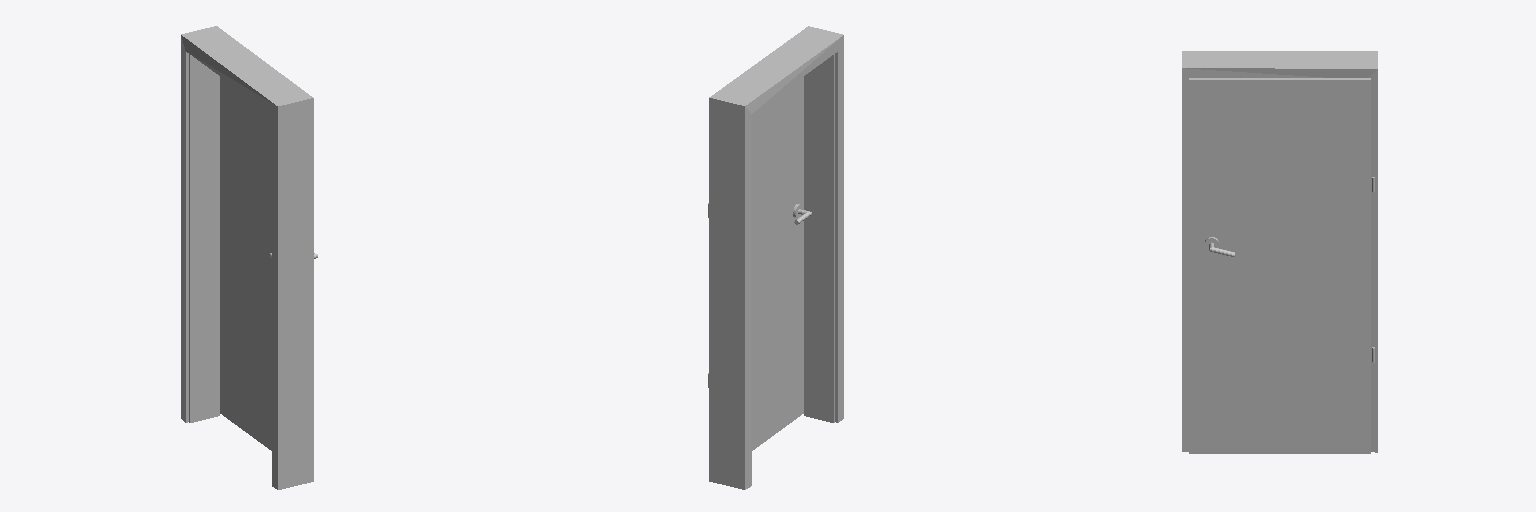
The model's file is door86.obj.
3 renders of one model, left to right at view 1: azimuth 30°, elevation 25°; view 2: azimuth 150°, elevation 25°; view 3: azimuth 270°, elevation 25°, orthographic.
Visible parts, largest first — view 1: Cylinder.005, Cylinder.001; view 2: Cylinder.005, Cylinder.001; view 3: Cylinder.001, Cylinder.005.
Part boxes in pixels (x1,y1,x2,y2): Cylinder.005: (181,26,313,489); Cylinder.001: (220,77,271,450); Cylinder.005: (708,26,843,489); Cylinder.001: (708,77,803,450); Cylinder.001: (1189,78,1374,453); Cylinder.005: (1182,51,1377,452).
Bounding box in the file's own units: 0.3039 × 2.05 × 0.95.